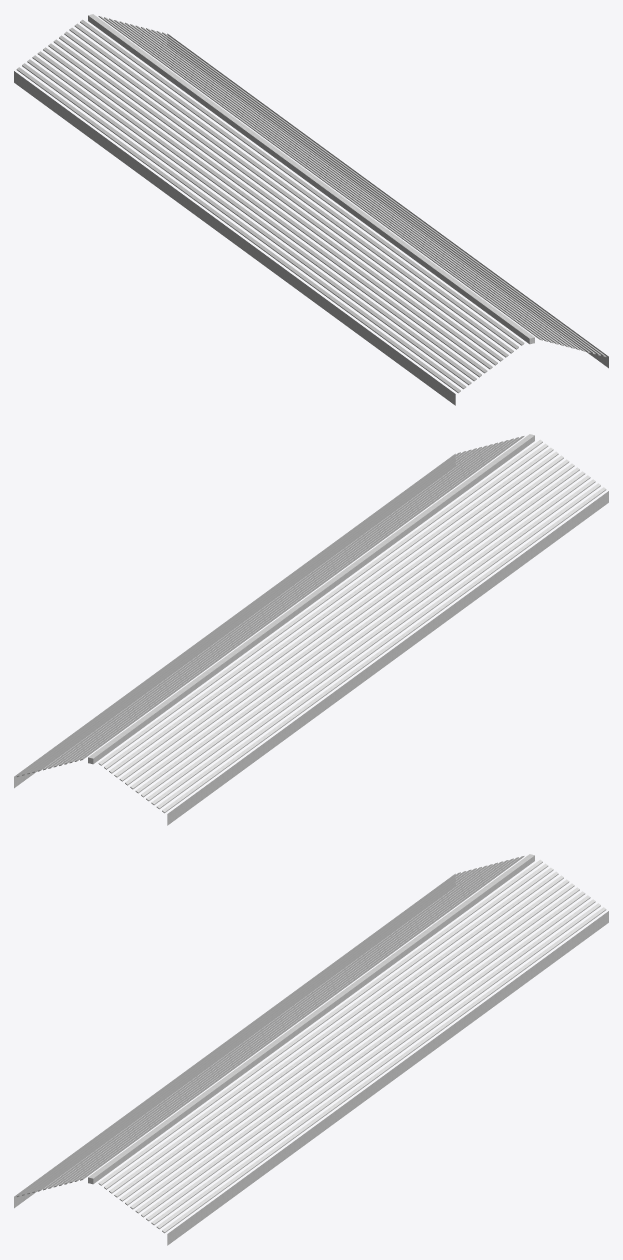
Rendered from ceilingframe_D_001.fbx.
3 views of the same model, one above another, from view 1: azimuth 30°, elevation 25°; view 2: azimuth 150°, elevation 25°; view 3: azimuth 330°, elevation 25° (orthographic).
Parts seen in each view (by area): view 1: ceilingframe_D_001; view 2: ceilingframe_D_001; view 3: ceilingframe_D_001.
Part boxes in pixels (x1=…): ceilingframe_D_001: x1=14, y1=14, x2=608, y2=405; ceilingframe_D_001: x1=14, y1=434, x2=608, y2=825; ceilingframe_D_001: x1=14, y1=854, x2=608, y2=1245.
Bounding box in the file's own units: 1716 × 527 × 8568.
Materials: 2 (2 with a texture image).
